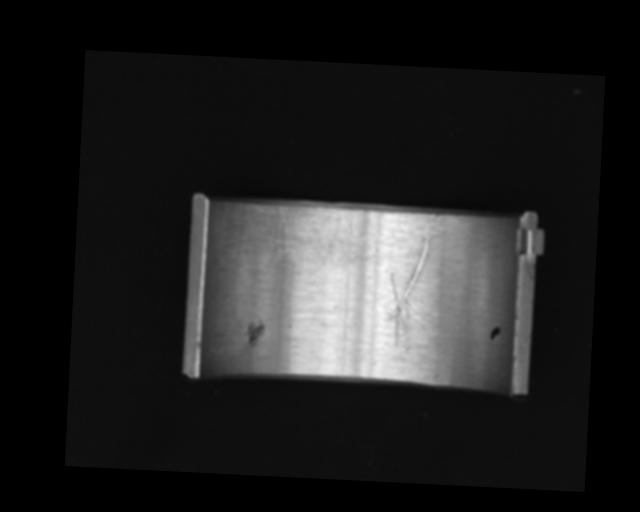blot: (488, 325, 502, 342)
bruise: (244, 320, 265, 346)
nick: (384, 211, 440, 354)
scratch: (249, 203, 356, 281)
